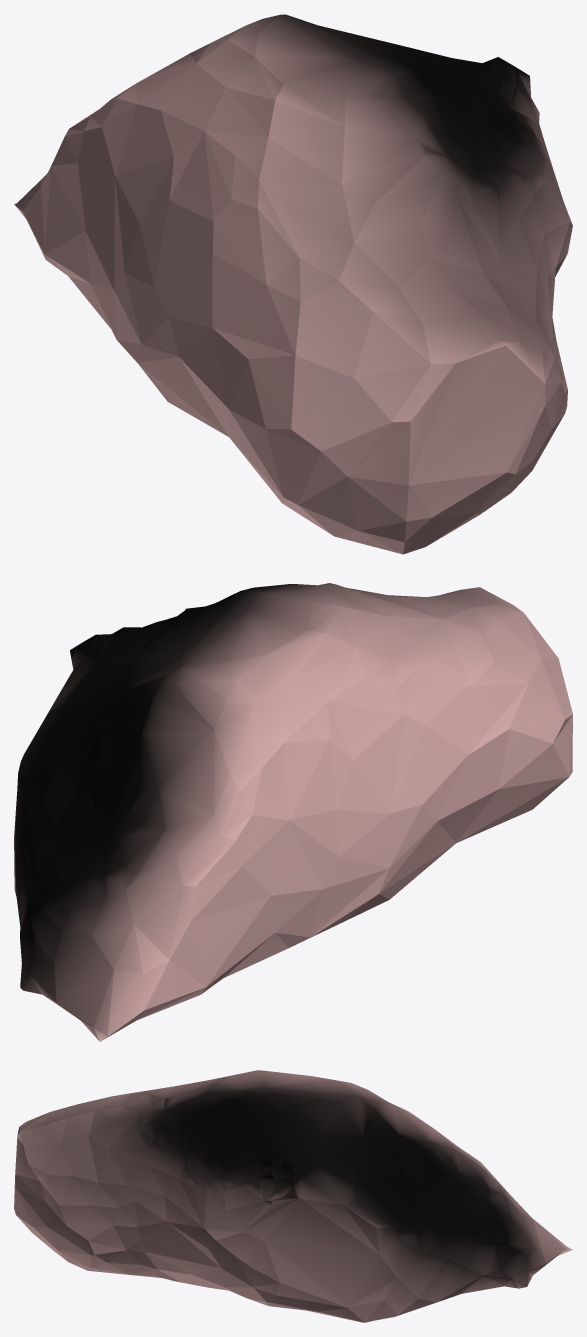
The model's file is Geometry9_lao.dae.
3 renders of one model, top to bottom at view 1: azimuth 30°, elevation 25°; view 2: azimuth 150°, elevation 25°; view 3: azimuth 270°, elevation 25°, orthographic. The views are drawn at different scales.
Visible parts, largest first — view 1: node; view 2: node; view 3: node.
Part boxes in pixels (left/top/right/bottom): node: left=14, top=14, right=572, bottom=554; node: left=14, top=583, right=572, bottom=1041; node: left=14, top=1070, right=572, bottom=1322.
Bounding box in the file's own units: 16.66 × 12.19 × 32.21.
